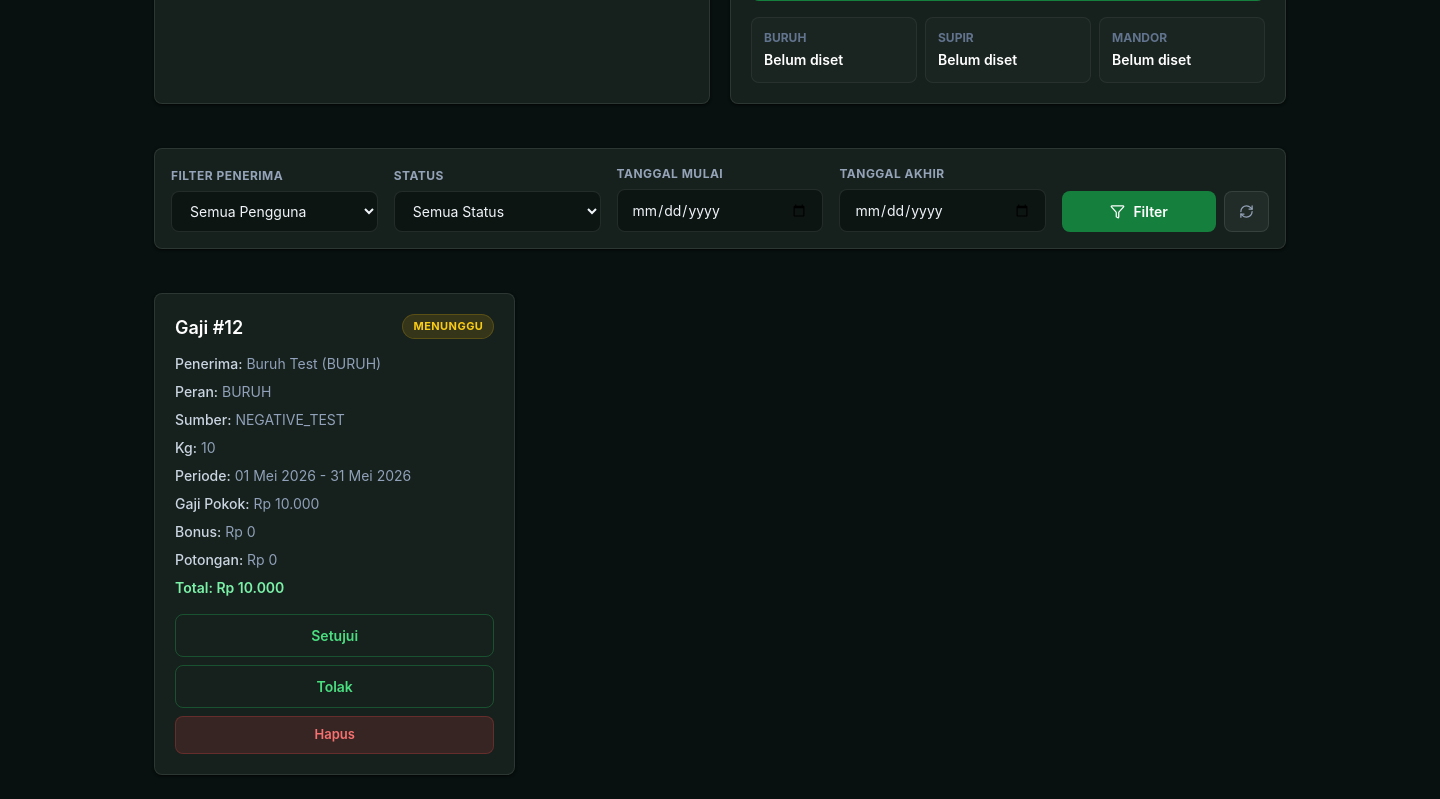
Test: Admin payroll negative guards › keeps insufficient wallet approval as a visible error
The width and height of the screenshot is (1440, 799).
(page scrolled)
Expected: the heading "Gaji #12" is shown, [175,314,243,342]
Step 1. Click the button "Setujui" → x=335, y=636, box [175,614,494,657]
(page scrolled)
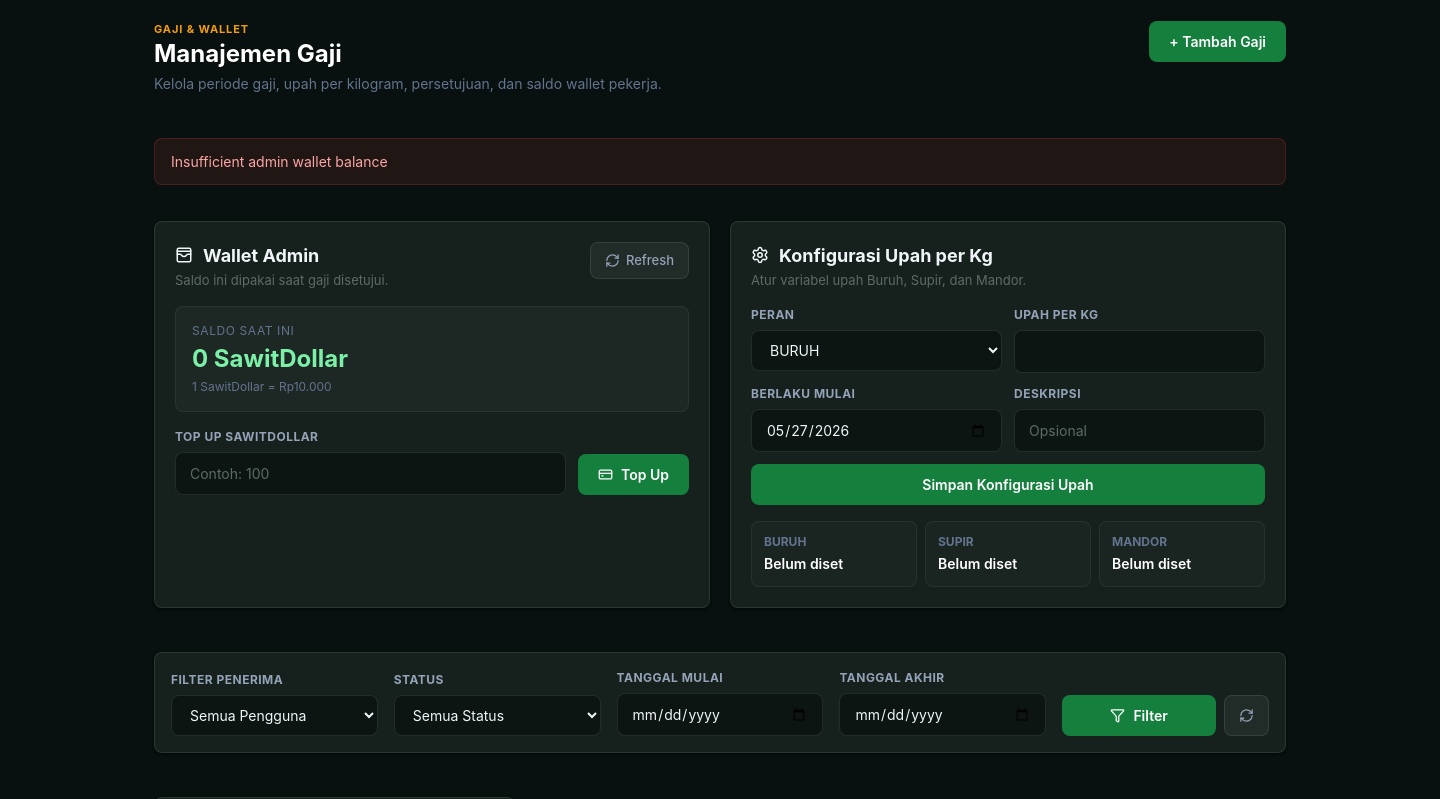
Expected: the text "Insufficient admin wallet balance" is shown, [154,138,1286,184]
